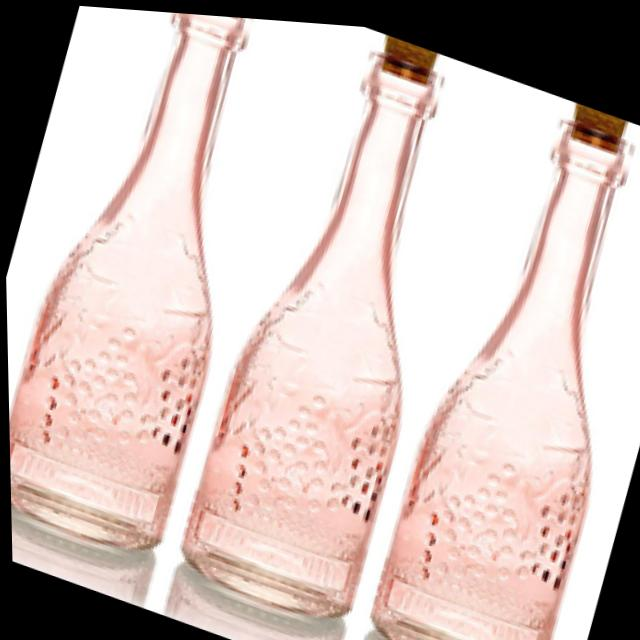glass_beverage_bottles: (163, 9, 503, 640), (0, 0, 313, 577), (351, 62, 640, 640)
